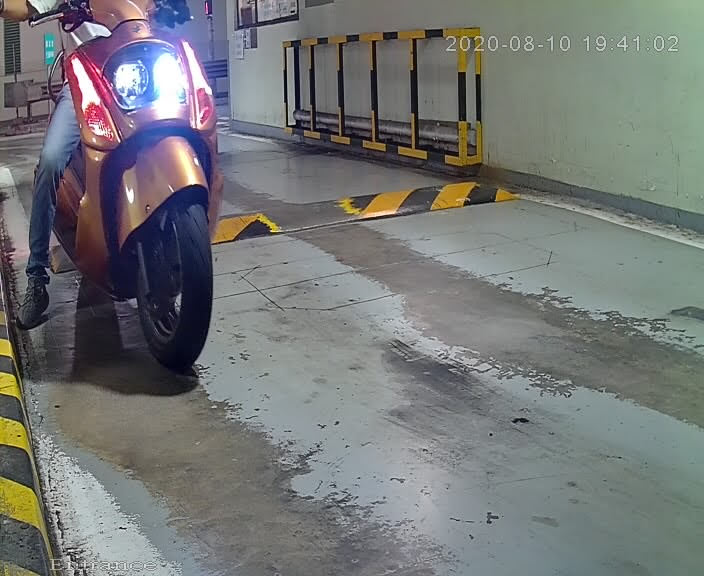motorcycle: (8, 1, 261, 376)
